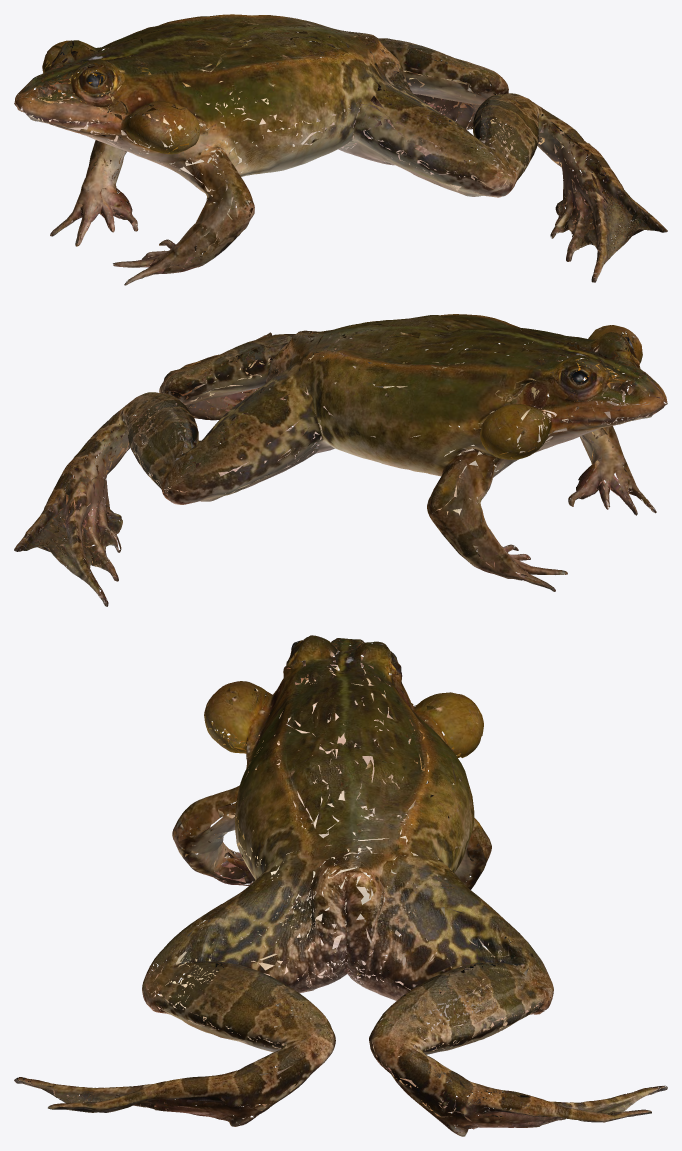
Rendered from frog-touch.glb.
3 renders of one model, top to bottom at view 1: azimuth 30°, elevation 25°; view 2: azimuth 150°, elevation 25°; view 3: azimuth 270°, elevation 25°, orthographic. The views are drawn at different scales.
Visible parts, largest first — view 1: Object_6, Object_11; view 2: Object_6, Object_11; view 3: Object_6, Object_11.
Part boxes in pixels (bbox=[...]): Object_6: bbox=[15, 14, 667, 285]; Object_11: bbox=[14, 14, 666, 285]; Object_6: bbox=[14, 314, 667, 606]; Object_11: bbox=[14, 314, 667, 604]; Object_6: bbox=[14, 635, 667, 1136]; Object_11: bbox=[14, 635, 666, 1136].
Size of the model in its own units: 0.9995 by 0.4347 by 0.9447.
Materials: 2 (2 with a texture image).
